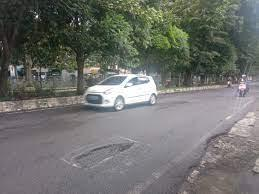Pothole: (169, 110, 259, 194), (54, 140, 141, 176)
